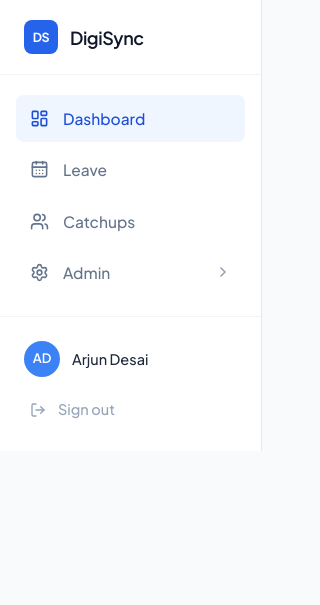
Scenario: Sidebar admin submenu › expands on click and reveals both sub-pages
This screenshot has width=320, height=605.
Click the button "Admin": (130, 272) [16,249,245,296]
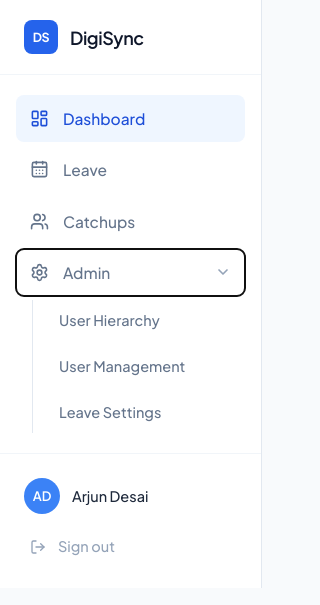
Now the button "Admin" is expanded, box [16,249,245,296]
